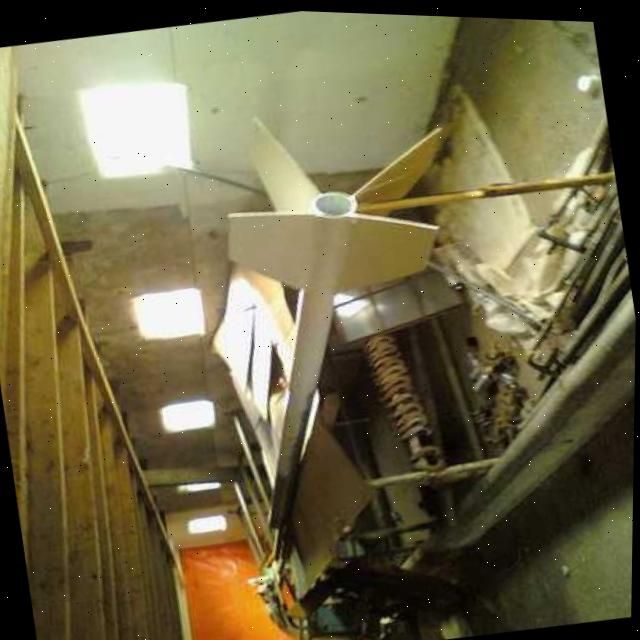missile: (201, 109, 508, 566)
